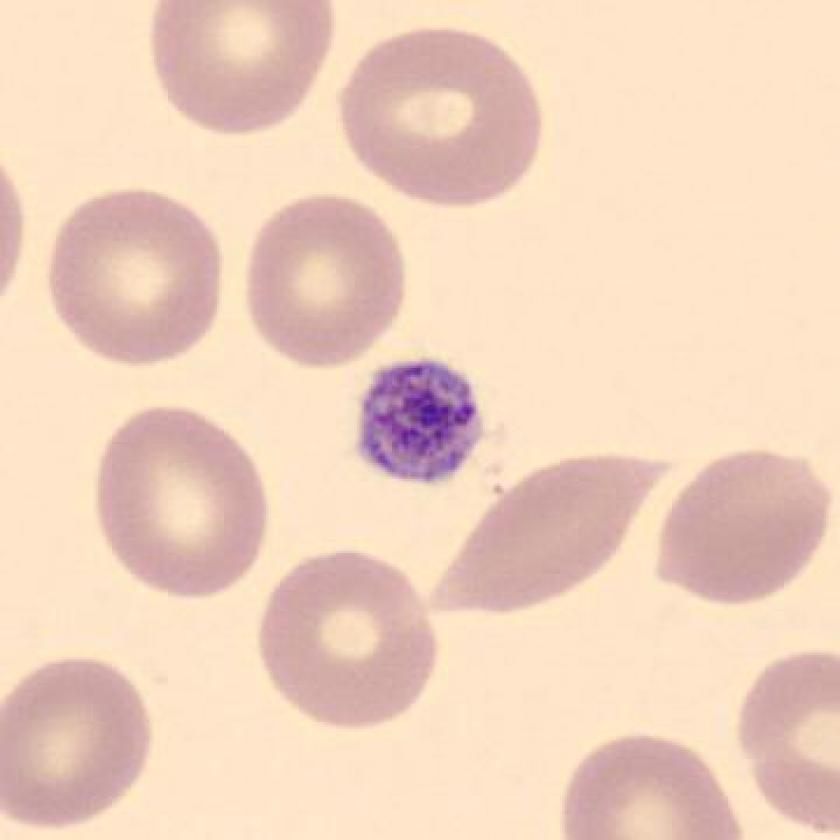platelets: (351, 346, 496, 492)
